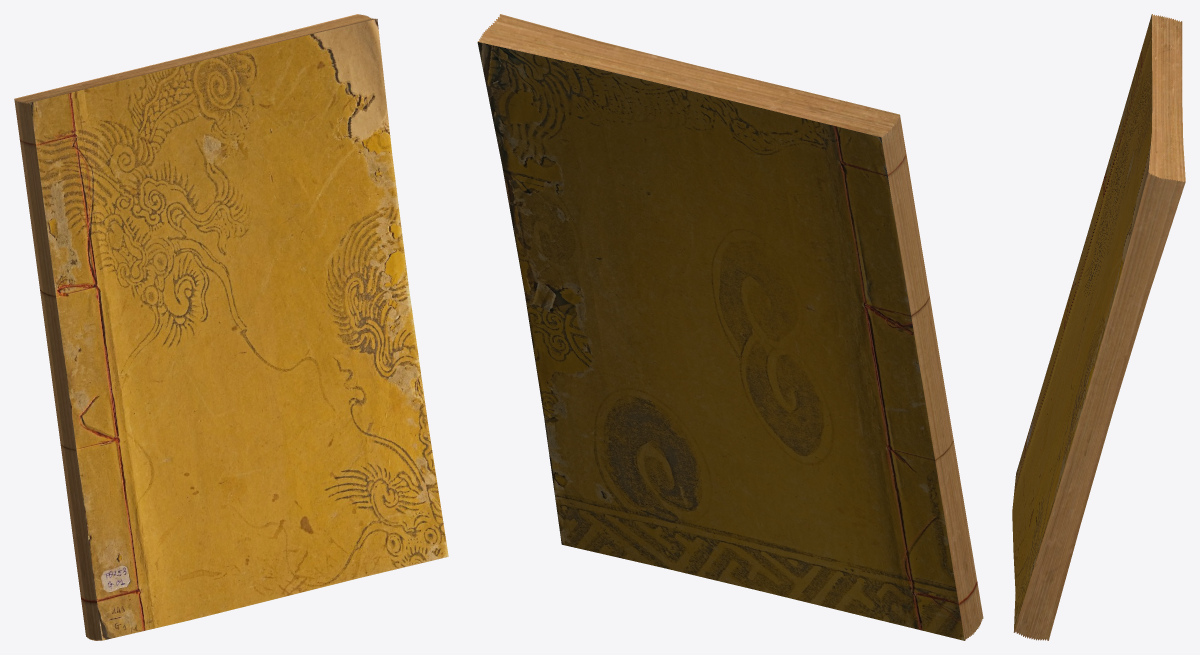
The model's file is thu-but-tu-huan-luc.glb.
The picture shows the model from 3 angles, left to right: view 1: azimuth 30°, elevation 25°; view 2: azimuth 150°, elevation 25°; view 3: azimuth 270°, elevation 25°; orthographic projection. The views are drawn at different scales.
Visible parts, largest first — view 1: Book; view 2: Book; view 3: Book.
Boxes of the visible parts, bbox=[...] form: Book: bbox=[14, 14, 448, 640]; Book: bbox=[477, 14, 983, 640]; Book: bbox=[1012, 14, 1185, 640].
Bounding box in the file's own units: 0.1815 × 0.2461 × 0.0827.
1 material, 1 textured.
